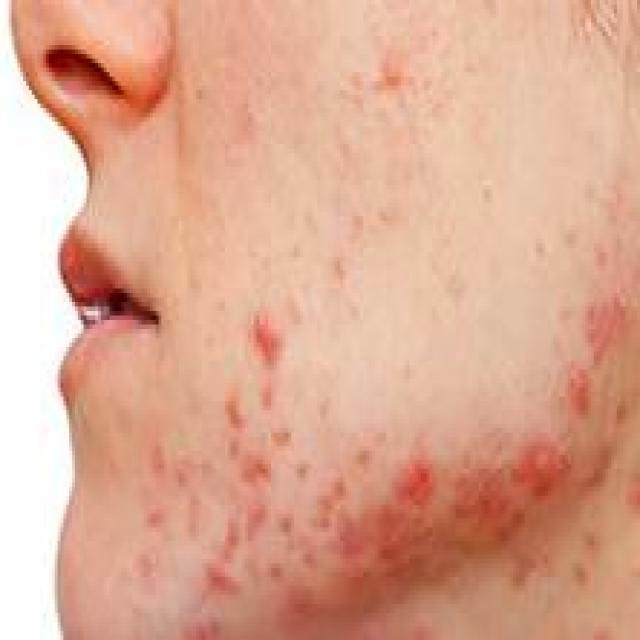Pimples: (253, 306, 286, 366), (132, 540, 162, 582), (378, 40, 403, 86), (228, 388, 248, 423), (536, 437, 556, 469), (152, 437, 168, 473), (277, 509, 297, 536), (478, 176, 498, 198), (265, 558, 283, 582), (354, 446, 372, 469), (565, 216, 577, 244), (296, 455, 308, 482)
